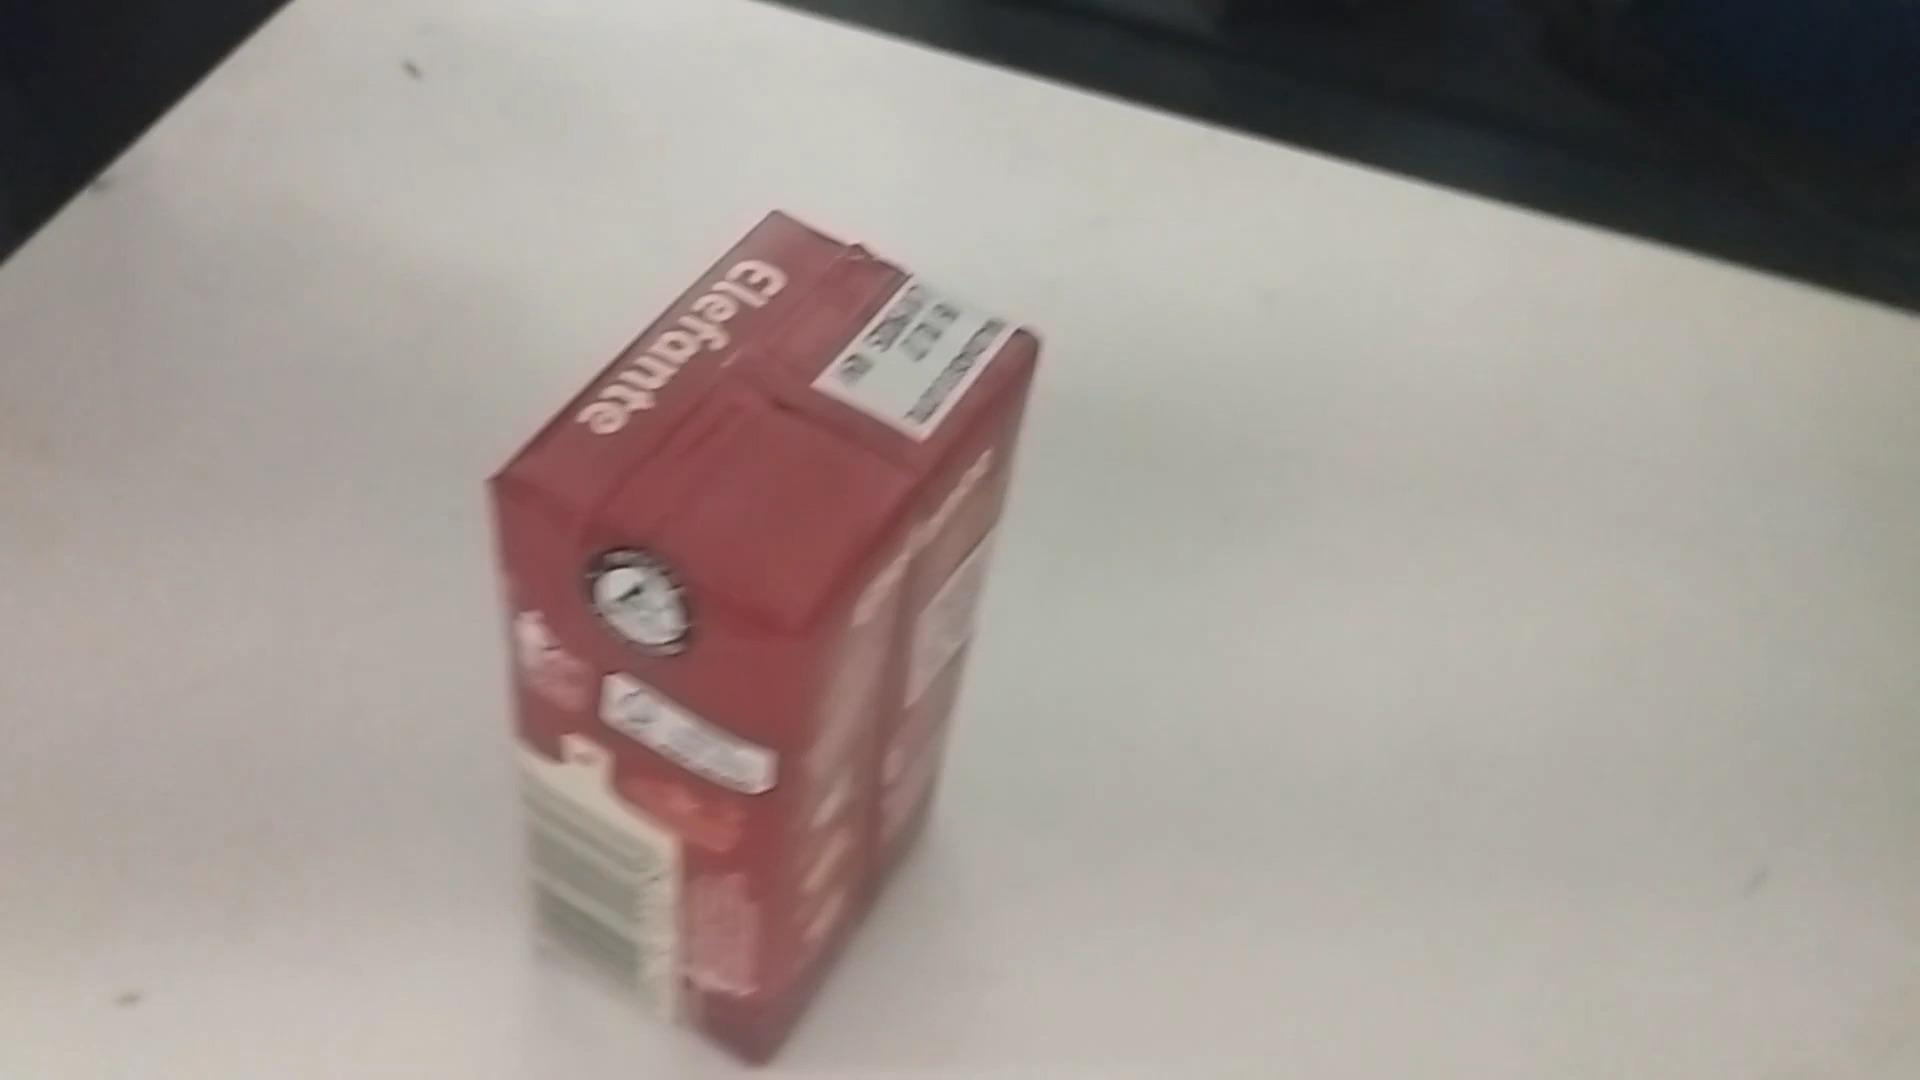tomate: (472, 203, 1048, 1075)
